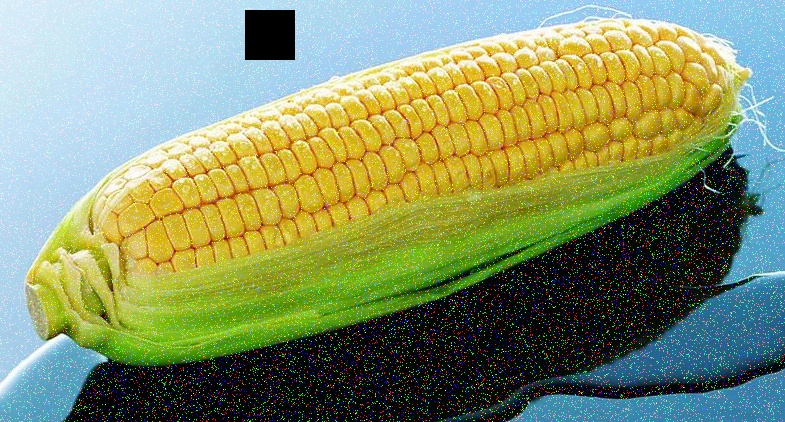corn: (31, 9, 736, 373)
